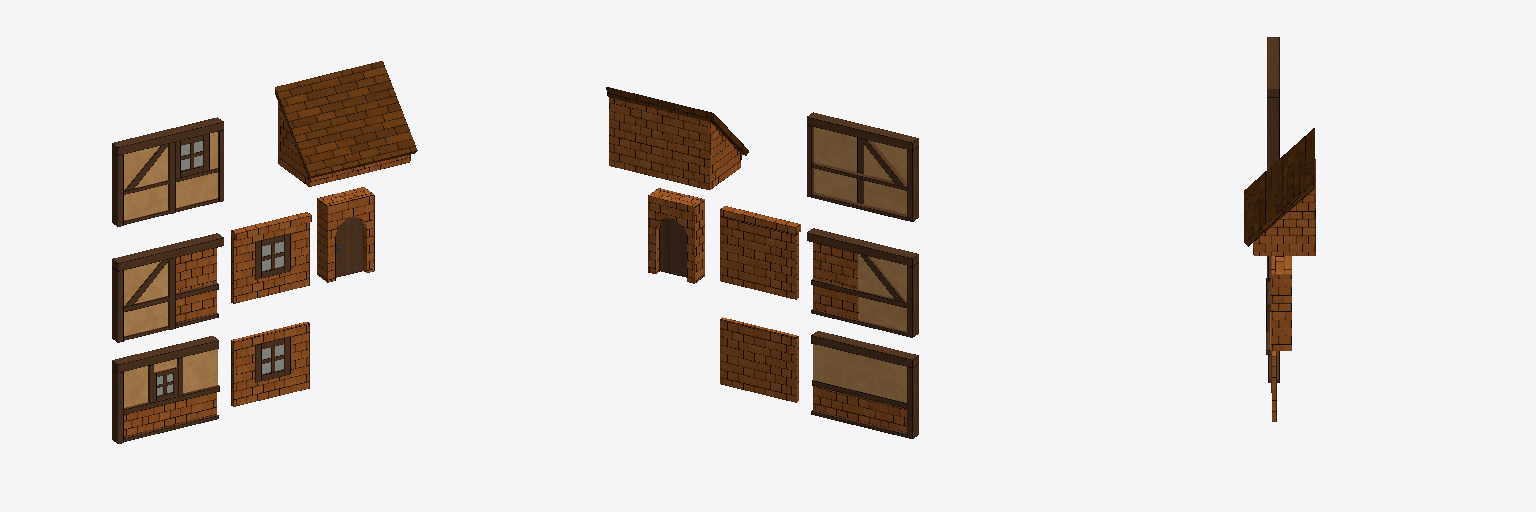
The picture shows the model from 3 angles: view 1: azimuth 30°, elevation 25°; view 2: azimuth 150°, elevation 25°; view 3: azimuth 270°, elevation 25°; orthographic projection.
Visible parts, largest first — view 1: Wall Wall_meshR1, Wall Wall_meshWa1, Wall_meshWa3 Wall, Wall Wall_meshWa2, Wall Wall_meshW2, Wall W1Wall_mesh, Wall Wall_meshDoor1; view 2: Wall Wall_meshR1, Wall Wall_meshWa1, Wall_meshWa3 Wall, Wall Wall_meshWa2, Wall Wall_meshW2, Wall W1Wall_mesh, Wall Wall_meshDoor1; view 3: Wall Wall_meshR1, Wall Wall_meshDoor1, Wall Wall_meshWa1, Wall Wall_meshWa2.
Part boxes in pixels (bbox=[...]): Wall Wall_meshR1: bbox=[275, 61, 417, 186]; Wall Wall_meshWa1: bbox=[112, 117, 223, 226]; Wall_meshWa3 Wall: bbox=[112, 233, 223, 342]; Wall Wall_meshWa2: bbox=[112, 336, 219, 443]; Wall Wall_meshW2: bbox=[231, 212, 311, 303]; Wall W1Wall_mesh: bbox=[231, 322, 309, 406]; Wall Wall_meshDoor1: bbox=[317, 187, 374, 282]; Wall Wall_meshR1: bbox=[606, 87, 748, 189]; Wall Wall_meshWa1: bbox=[807, 112, 918, 221]; Wall_meshWa3 Wall: bbox=[807, 228, 918, 337]; Wall Wall_meshWa2: bbox=[811, 331, 918, 438]; Wall Wall_meshW2: bbox=[720, 206, 800, 299]; Wall W1Wall_mesh: bbox=[720, 317, 798, 402]; Wall Wall_meshDoor1: bbox=[648, 188, 704, 283]; Wall Wall_meshR1: bbox=[1244, 128, 1315, 255]; Wall Wall_meshDoor1: bbox=[1271, 256, 1291, 350]; Wall Wall_meshWa1: bbox=[1267, 37, 1279, 167]; Wall Wall_meshWa2: bbox=[1266, 261, 1279, 382].
Size of the model in its own units: 192 by 188 by 41.28.
Materials: 1 (1 with a texture image).